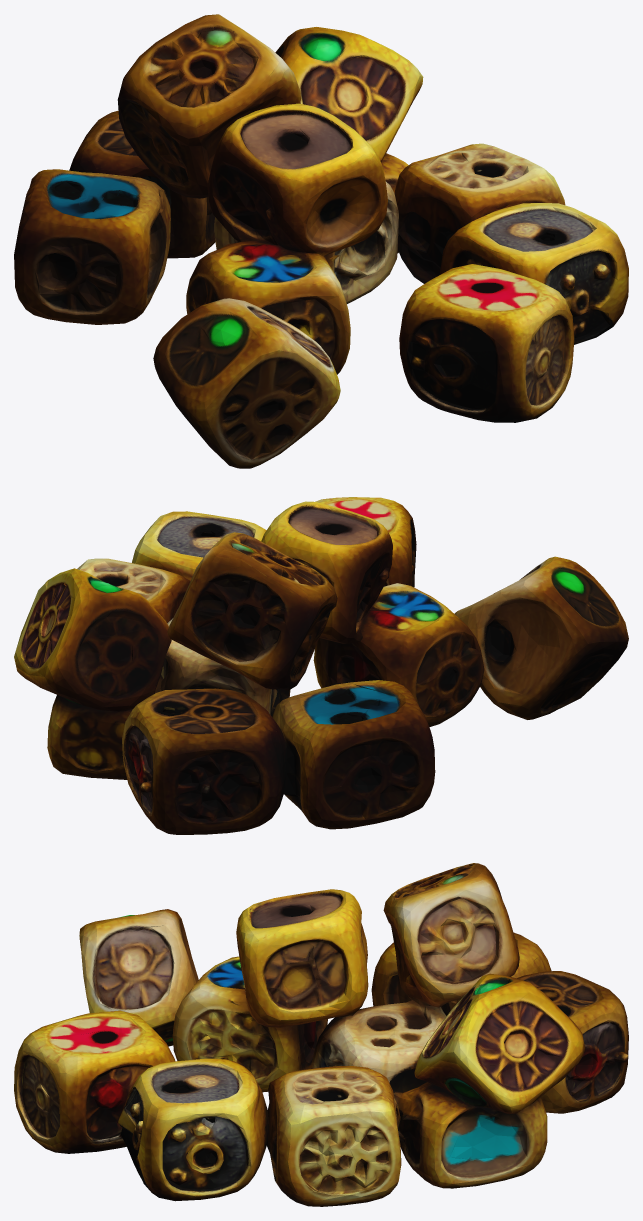
File: wooden-dice-3d.jpeg.glb
3 views of the same model, one above another, from view 1: azimuth 30°, elevation 25°; view 2: azimuth 150°, elevation 25°; view 3: azimuth 270°, elevation 25° (orthographic). The views are drawn at different scales.
Parts seen in each view (by area): view 1: world; view 2: world; view 3: world.
Part boxes in pixels (x1,y1,x2,y2): world: (14, 14, 628, 468); world: (14, 497, 628, 834); world: (14, 863, 628, 1206).
Size of the model in its own units: 0.8397 by 0.445 by 0.9998.
1 material, 1 textured.
